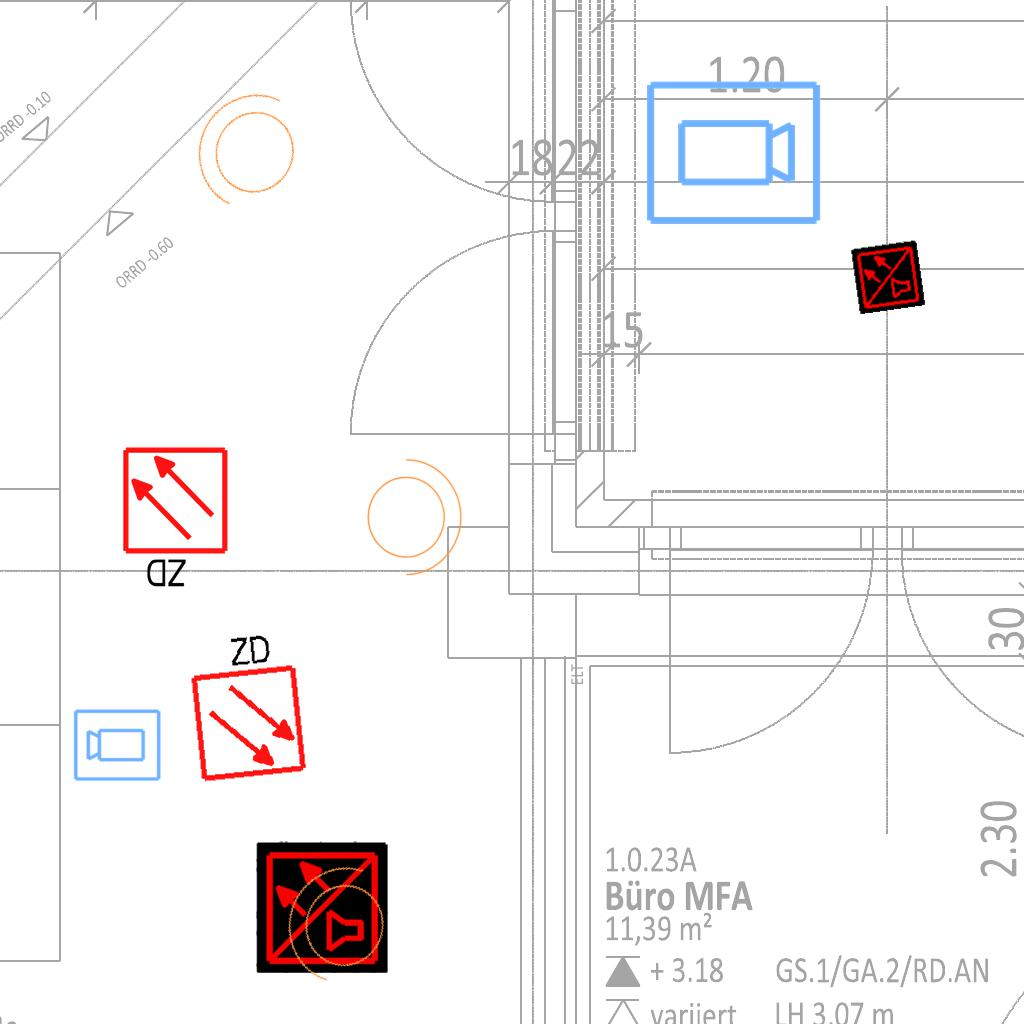KFO_Kamera_mit_Festobjektiv: (642, 77, 824, 231), (72, 706, 163, 783)
OKW_Multisensormelder_(Kombination_optischer_Rauch-Kahlenmonoxid_Waerme-Melder): (256, 841, 388, 973), (850, 239, 926, 315)
Scheinwerfer_fuer_Alarmbeleuchtung: (169, 69, 329, 237), (265, 846, 413, 1008), (355, 448, 467, 580)
ZD_Melder_in_Zwischendecke_mit_Revisionsoeffnung_mind_40_x_40_cm: (180, 624, 310, 785), (120, 445, 234, 594)
